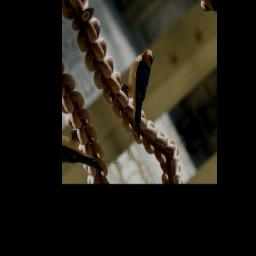Swallow: (94, 45, 182, 161)
